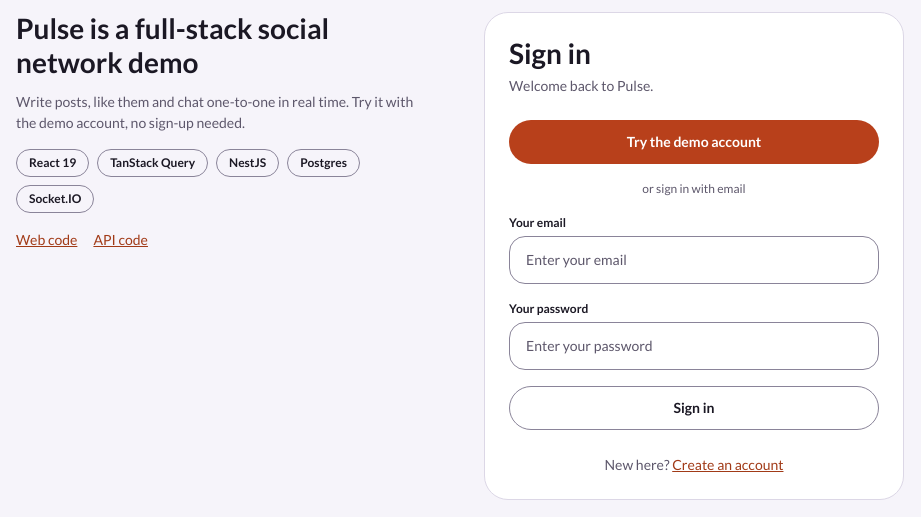
Test: Login › signs in with the configured demo account in one click
Click the button "Try the demo account" at (694, 142), box [509,120,879,164]
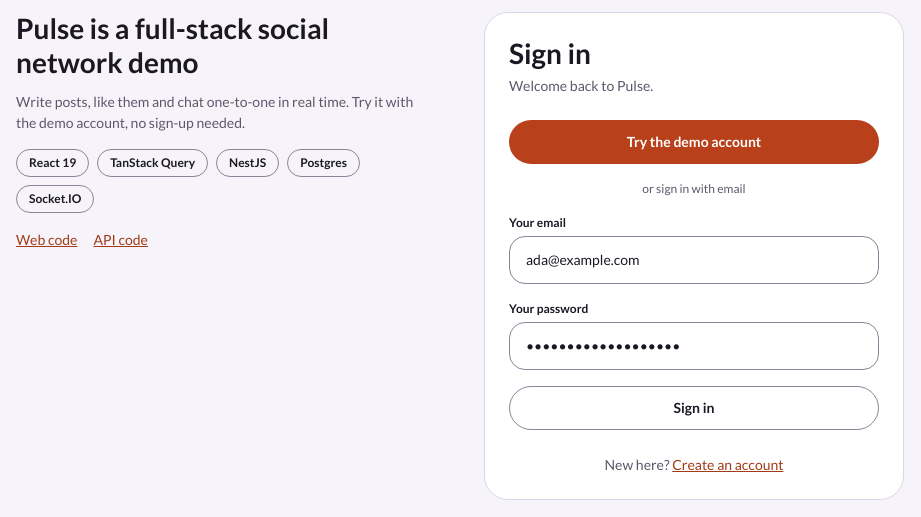
Now the field labelled "Your email" holds "ada@example.com", box [509,236,879,284]
